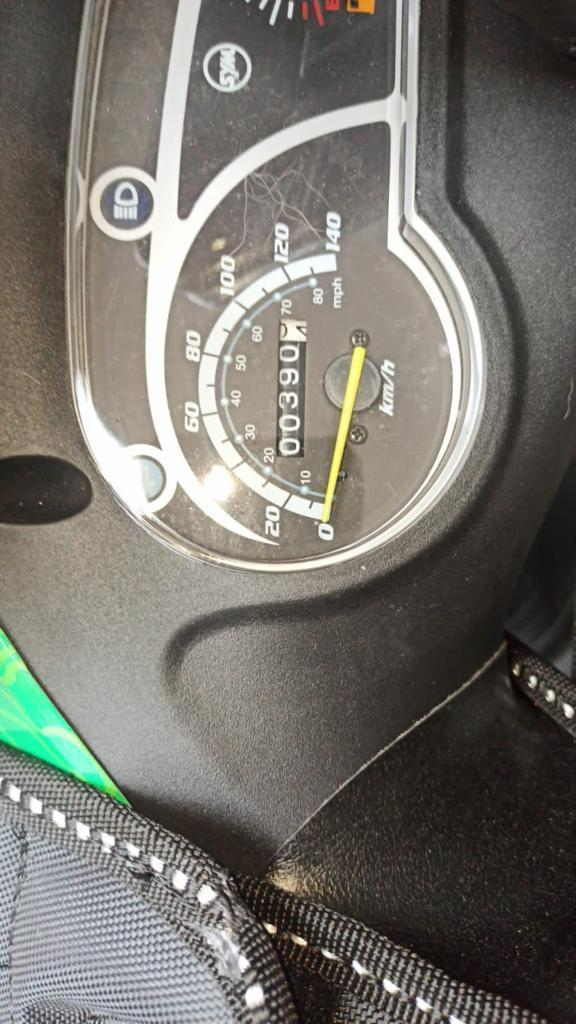0: (276, 437, 301, 457), (276, 414, 301, 433), (275, 344, 300, 363)
3: (277, 390, 300, 410)
4: (291, 320, 309, 338)
9: (276, 367, 300, 385)
odometer: (271, 316, 309, 459)
